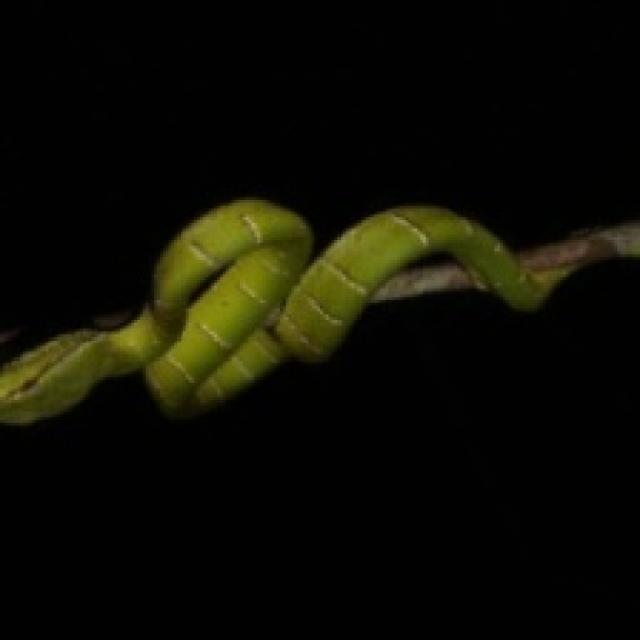north ph temple pitviper: (0, 200, 637, 420)
